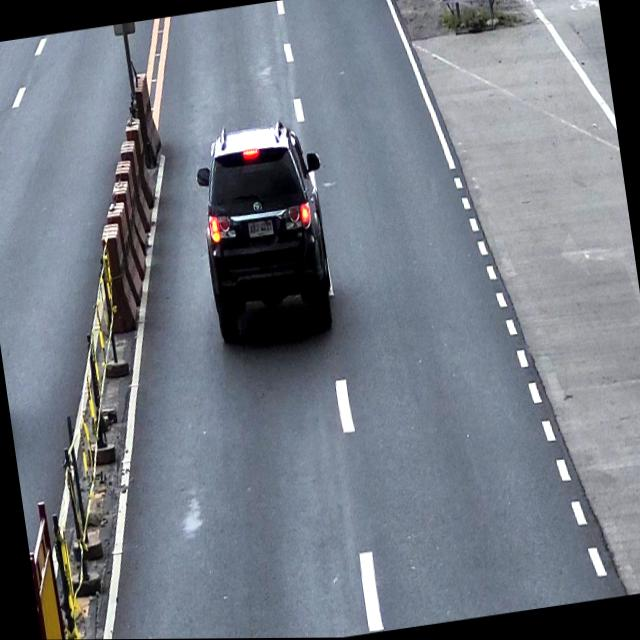Car: (191, 114, 346, 349)
License-Plate: (246, 218, 275, 240)
